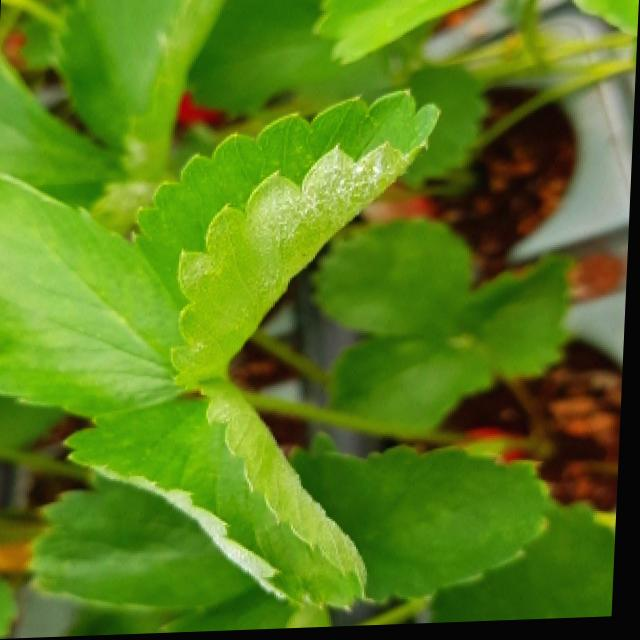Powdery Mildew Leaf: (132, 93, 442, 387), (64, 379, 371, 617)
